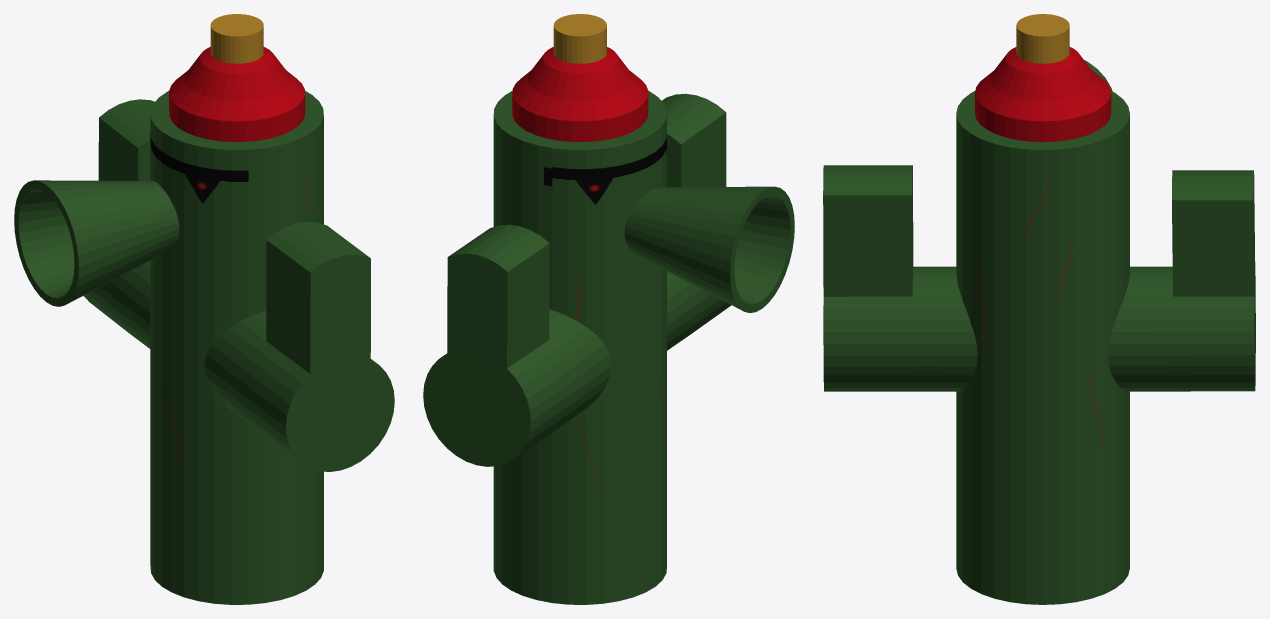
File: alfilcactus.obj
3 views of the same model, side by side, from view 1: azimuth 30°, elevation 25°; view 2: azimuth 150°, elevation 25°; view 3: azimuth 270°, elevation 25° (orthographic).
Parts seen in each view (by area): view 1: Cylinder, Cylinder.001, Cone; view 2: Cylinder, Cylinder.001, Cone; view 3: Cylinder, Cylinder.001.
Boxes of the visible parts, box(x1,y1,x2,y2) form: Cylinder: box(150, 14, 323, 604); Cylinder.001: box(83, 99, 394, 471); Cone: box(14, 180, 179, 306); Cylinder: box(493, 14, 666, 604); Cylinder.001: box(423, 93, 731, 466); Cone: box(624, 186, 794, 312); Cylinder: box(956, 14, 1129, 604); Cylinder.001: box(823, 165, 1255, 391).
Bounding box in the file's own units: 1.64 × 3.24 × 2.34.
3 materials, 3 textured.
